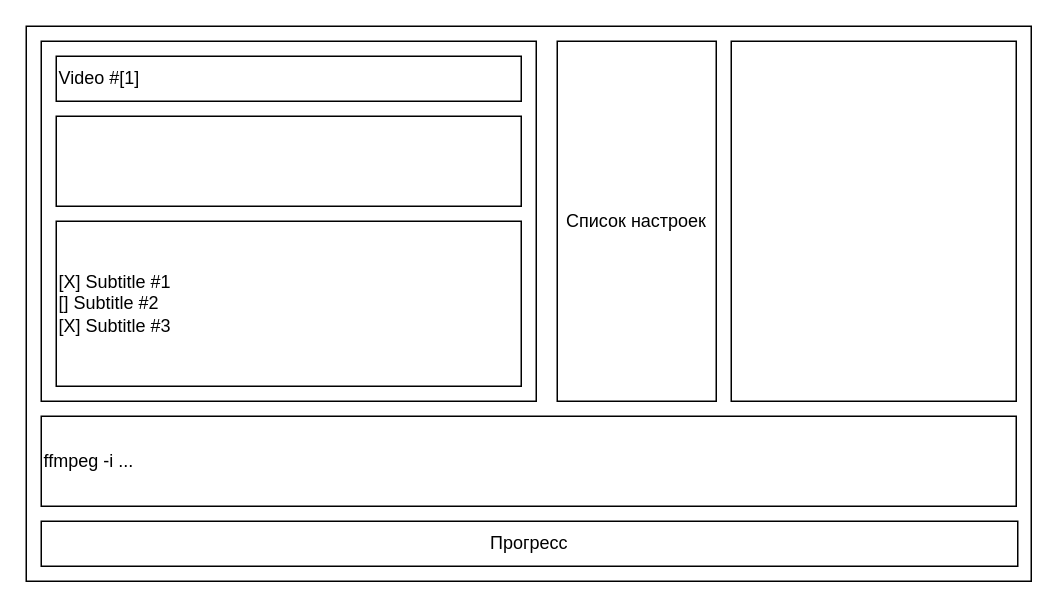
The diagram is 1058 pixels wide and 608 high, and some of its shapes have lost their labels. The shapes that lost their labels are listed below. From the top down, each one's centre as x and y in pixels, then its label:
At pixel 288 160: "[X] Audio #1 [] Audio #2 [Есть только в 1, 3, 4] [X] Audio #3".
At pixel 873 220: "Файл 1 [X] Файл 2 [X] Файл 3 [X]".
